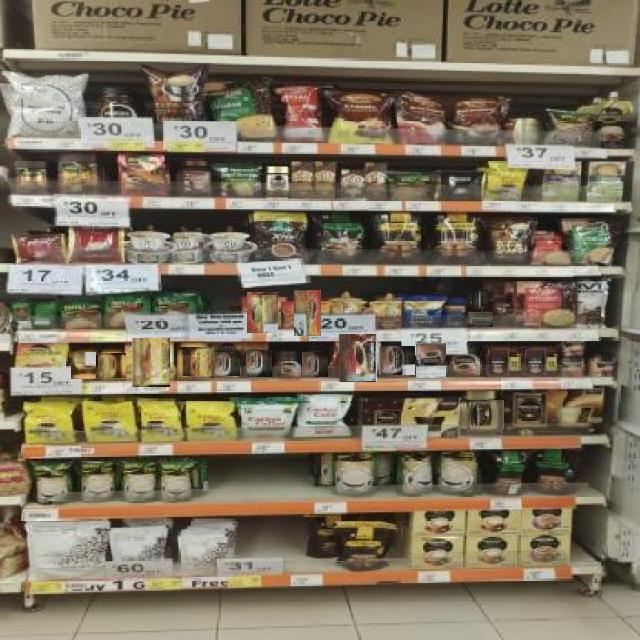Coffee: (339, 334, 377, 382), (132, 338, 170, 386), (460, 399, 504, 429), (247, 292, 278, 333), (294, 291, 321, 336), (415, 342, 446, 378), (178, 346, 214, 376), (450, 342, 481, 376), (379, 346, 415, 374), (266, 167, 288, 199), (70, 352, 96, 379), (98, 354, 126, 379), (245, 352, 272, 377), (277, 351, 301, 378), (214, 352, 240, 376), (302, 352, 328, 376), (467, 312, 493, 327), (472, 290, 488, 313)
